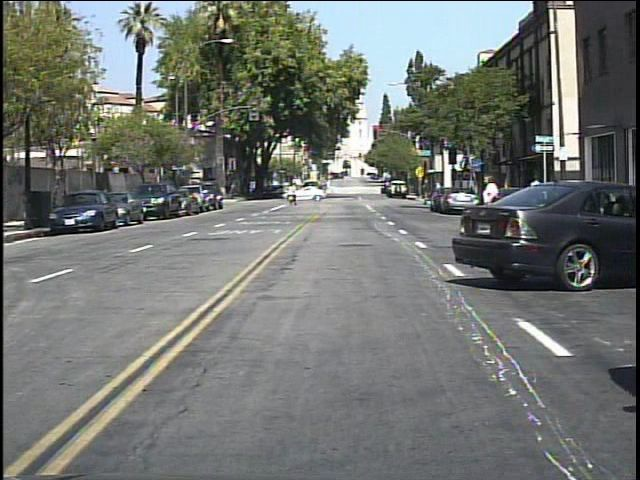person: (475, 166, 508, 245), (527, 169, 549, 218), (289, 177, 305, 210)
